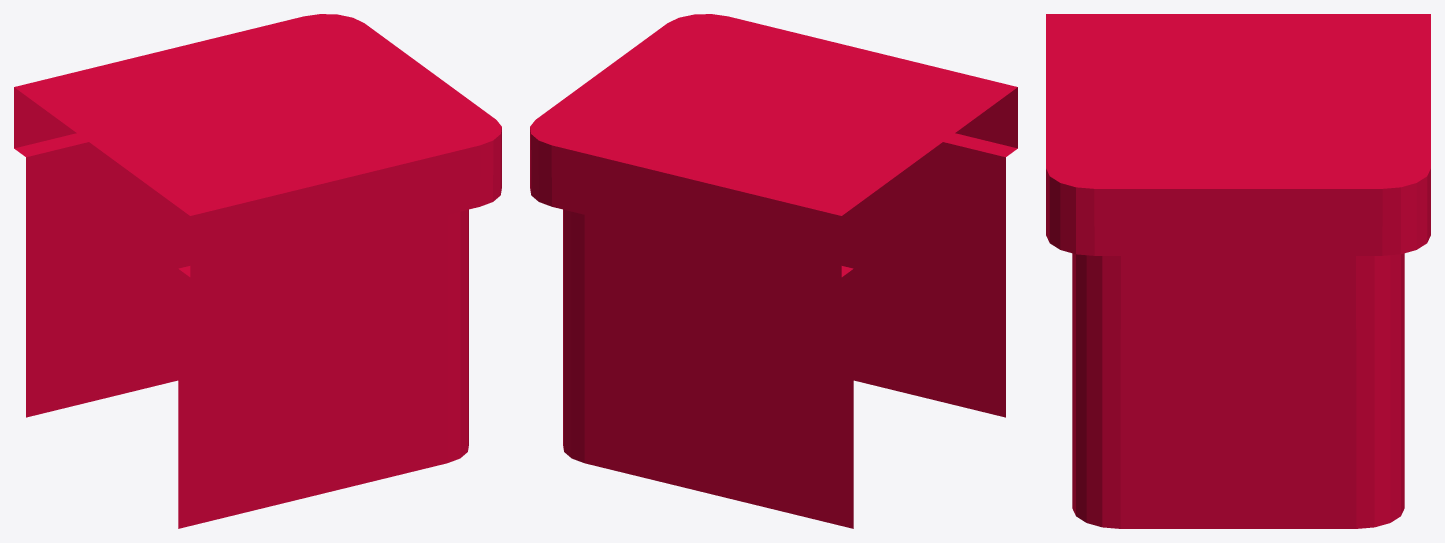
Rendered from Block_Top_Corner_OneWay.fbx.
The picture shows the model from 3 angles, left to right: view 1: azimuth 30°, elevation 25°; view 2: azimuth 150°, elevation 25°; view 3: azimuth 270°, elevation 25°; orthographic projection. The views are drawn at different scales.
Visible parts, largest first — view 1: Block_Top_Corner_OneWay; view 2: Block_Top_Corner_OneWay; view 3: Block_Top_Corner_OneWay.
Boxes of the visible parts, x1,y1,x2,y2 form: Block_Top_Corner_OneWay: (14, 14, 501, 528); Block_Top_Corner_OneWay: (530, 14, 1017, 528); Block_Top_Corner_OneWay: (1046, 14, 1430, 528).
Size of the model in its own units: 187 by 175 by 174.
